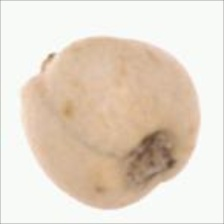L3: (19, 42, 74, 87)
L4: (20, 36, 201, 210)
